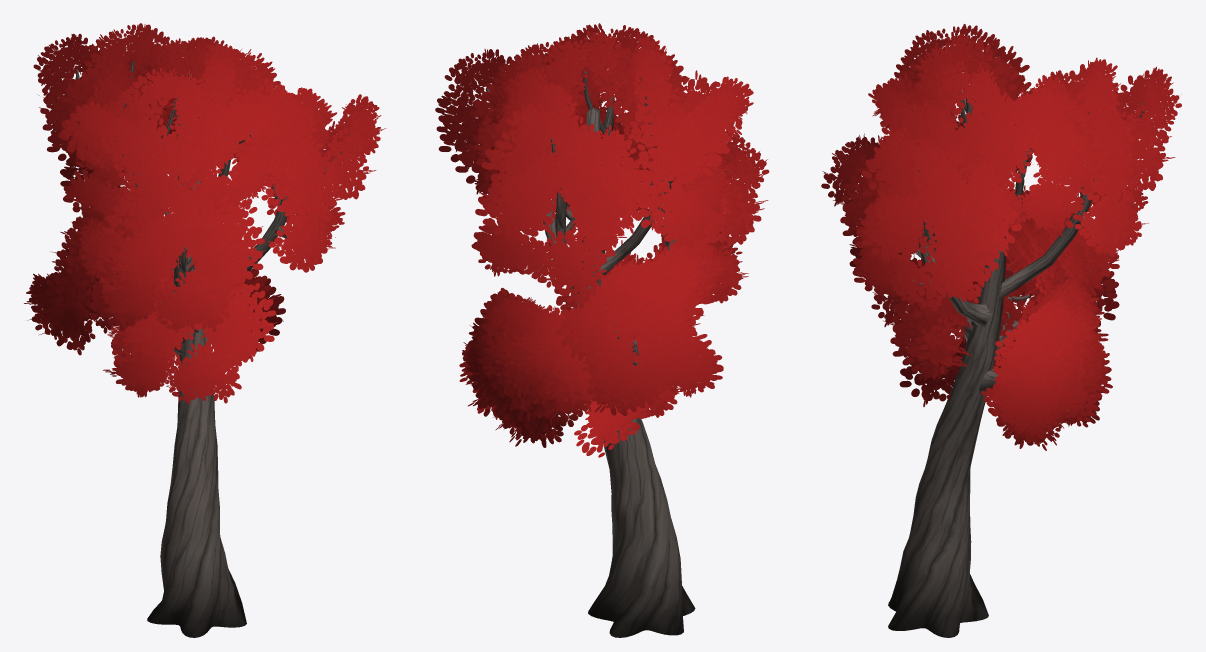
File: sn_twisted_tree_5.glb
The picture shows the model from 3 angles, left to right: view 1: azimuth 30°, elevation 25°; view 2: azimuth 150°, elevation 25°; view 3: azimuth 270°, elevation 25°; orthographic projection. The views are drawn at different scales.
Parts seen in each view (by area): view 1: TwistedTree_5; view 2: TwistedTree_5; view 3: TwistedTree_5.
Part boxes in pixels (bbox=[...]): TwistedTree_5: bbox=[24, 23, 386, 637]; TwistedTree_5: bbox=[435, 23, 769, 637]; TwistedTree_5: bbox=[821, 24, 1181, 637].
Bounding box in the file's own units: 9.5 × 15.66 × 9.39.
2 materials, 2 textured.
